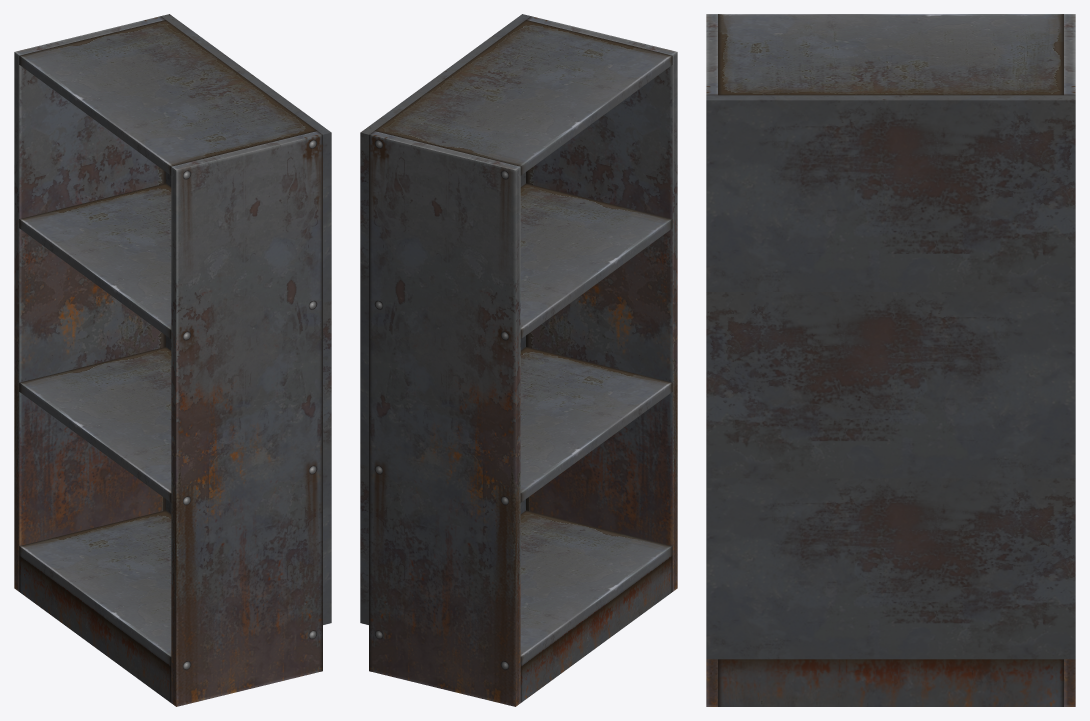
The model's file is metalShelf03_A.fbx.
3 renders of one model, left to right at view 1: azimuth 30°, elevation 25°; view 2: azimuth 150°, elevation 25°; view 3: azimuth 270°, elevation 25°, orthographic. The views are drawn at different scales.
Parts seen in each view (by area): view 1: metalShelf03_A; view 2: metalShelf03_A; view 3: metalShelf03_A.
Part boxes in pixels (box(x1,y1,x2,y2)): metalShelf03_A: box(14, 14, 331, 706); metalShelf03_A: box(360, 14, 677, 706); metalShelf03_A: box(706, 14, 1075, 706).
Bounding box in the file's own units: 53 × 175 × 95.8.
